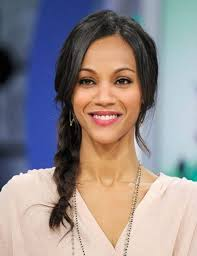black_female: (53, 8, 161, 149)
